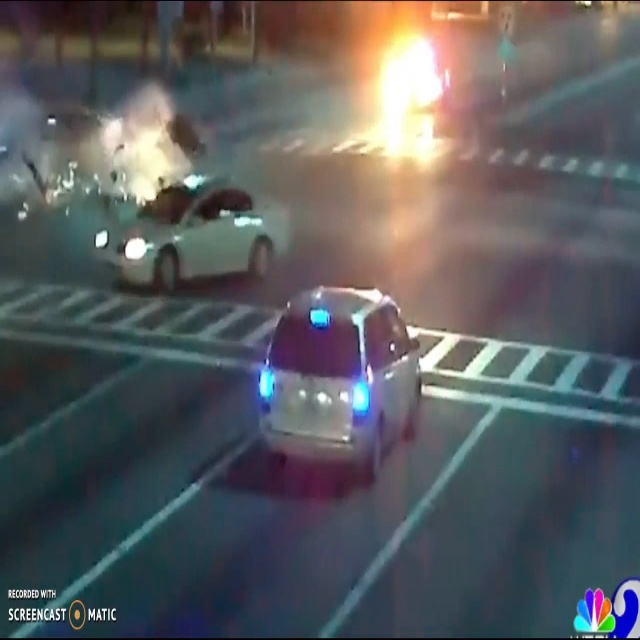acc: (2, 76, 210, 243)
